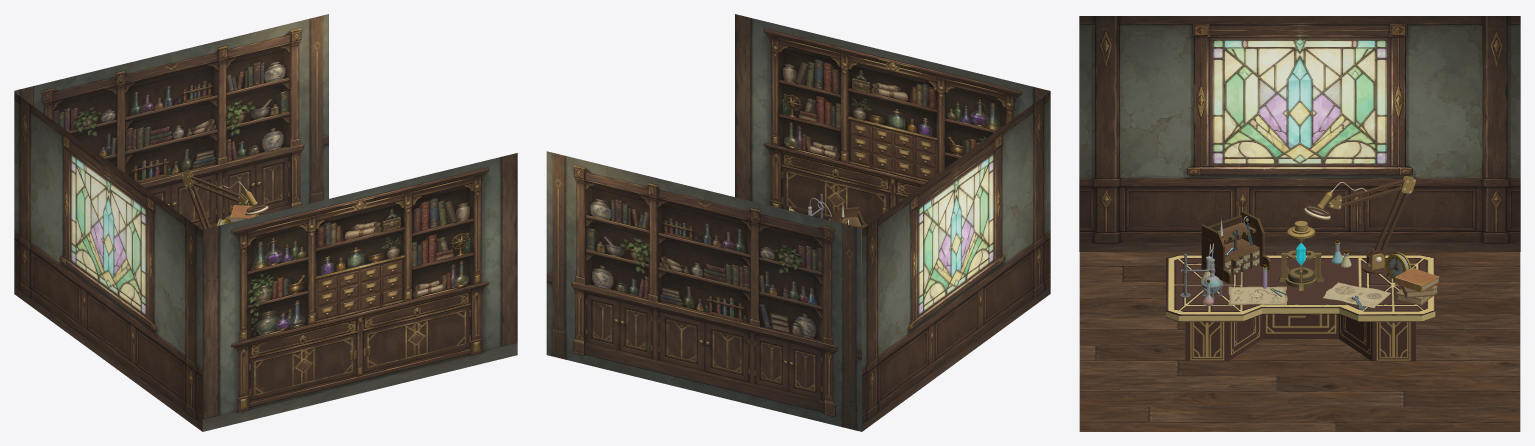
Rendered from taller-viktor-jayce.glb.
3 views of the same model, side by side, from view 1: azimuth 30°, elevation 25°; view 2: azimuth 150°, elevation 25°; view 3: azimuth 270°, elevation 25° (orthographic). The views are drawn at different scales.
Visible parts, largest first — view 1: object 22, object 19, object 20, object 2; view 2: object 19, object 22, object 20; view 3: object 20, object 21, Cube_table_0, Cube.001_chest _0, object 2, object 5, Cube.031_books _0, Plane.013_left paper _0, Plane.014_right paper_0, object 1, Cylinder.042_clock_0, Cylinder.022_derzhalka _0 (+1 smaller).
Part boxes in pixels (bbox=[...]): object 22: bbox=[202, 153, 517, 431]; object 19: bbox=[14, 14, 328, 229]; object 20: bbox=[14, 92, 202, 431]; object 2: bbox=[182, 172, 269, 229]; object 19: bbox=[546, 151, 861, 431]; object 22: bbox=[735, 14, 1050, 225]; object 20: bbox=[862, 92, 1050, 431]; object 20: bbox=[1079, 16, 1520, 251]; object 21: bbox=[1079, 252, 1520, 431]; Cube_table_0: bbox=[1166, 255, 1435, 361]; Cube.001_chest _0: bbox=[1201, 210, 1270, 283]; object 2: bbox=[1303, 176, 1415, 274]; object 5: bbox=[1278, 220, 1324, 290]; Cube.031_books _0: bbox=[1395, 268, 1439, 305]; Plane.013_left paper _0: bbox=[1228, 286, 1287, 304]; Plane.014_right paper_0: bbox=[1322, 282, 1390, 308]; object 1: bbox=[1201, 210, 1351, 305]; Cylinder.042_clock_0: bbox=[1386, 252, 1410, 279]; Cylinder.022_derzhalka _0: bbox=[1180, 254, 1223, 299].
Size of the model in its own units: 21.03 by 12.98 by 21.78.
Materials: 22 (19 with a texture image).
